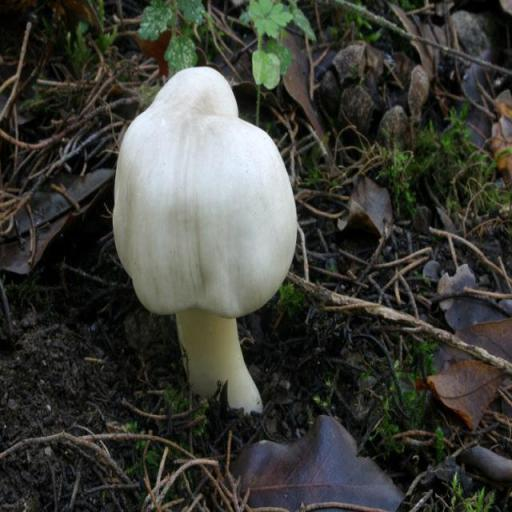mushroom: (114, 65, 298, 416)
